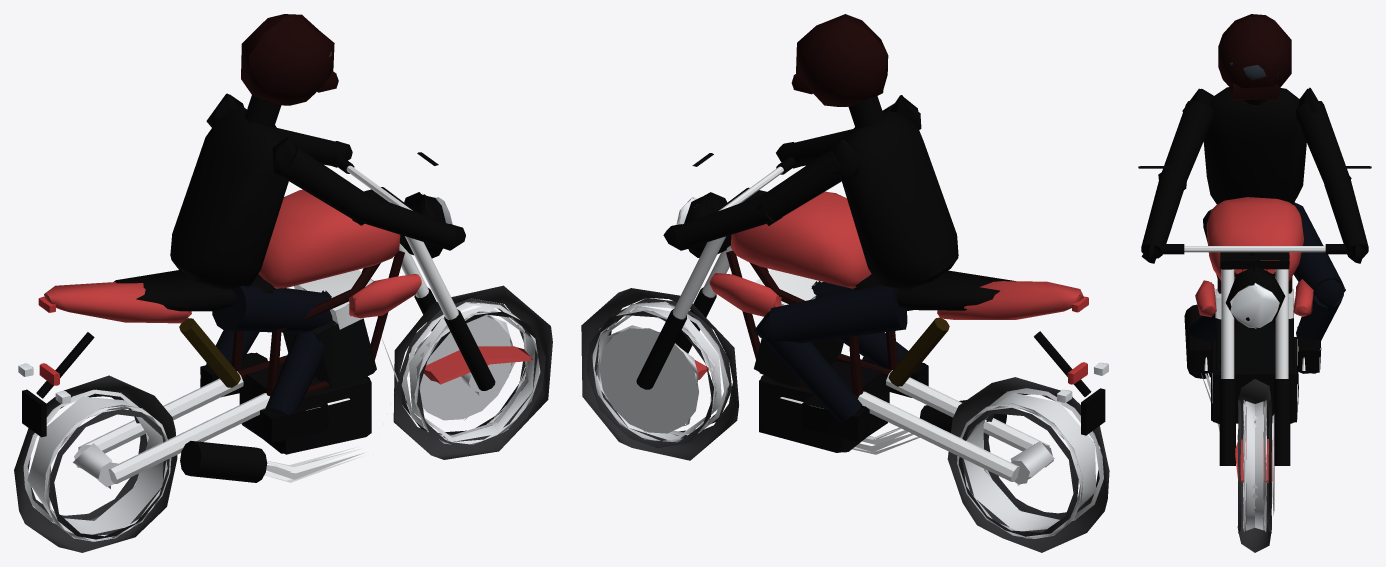
Rendered from m_road_far.glb.
3 renders of one model, left to right at view 1: azimuth 30°, elevation 25°; view 2: azimuth 150°, elevation 25°; view 3: azimuth 270°, elevation 25°, orthographic. The views are drawn at different scales.
Visible parts, largest first — view 1: WheelF, WheelR, Torso, Tank, Helmet, Crankcase, Thigh.001, Tail, Cylinders, Seat, Swingarm.001, Muffler (+22 smaller); view 2: WheelF, WheelR, Torso, Tank, Helmet, Thigh, Crankcase, Tail, Shin, Seat, Swingarm, UpperArm (+21 smaller); view 3: Torso, WheelF, Tank, Helmet, Cylinders, UpperArm.001, UpperArm, Forearm.001, Forearm, Crankcase, Thigh, HeadLight (+19 smaller).
Boxes of the visible parts, left/top/right/bottom form: WheelF: left=393, top=285, right=552, bottom=459; WheelR: left=14, top=375, right=177, bottom=552; Torso: left=170, top=110, right=288, bottom=289; Tank: left=258, top=189, right=400, bottom=288; Helmet: left=241, top=14, right=334, bottom=105; Crankcase: left=239, top=359, right=371, bottom=454; Thigh.001: left=212, top=283, right=336, bottom=332; Tail: left=44, top=282, right=191, bottom=323; Cylinders: left=283, top=288, right=376, bottom=388; Seat: left=114, top=270, right=275, bottom=311; Swingarm.001: left=108, top=393, right=269, bottom=483; Muffler: left=180, top=441, right=267, bottom=482; WheelF: left=581, top=288, right=738, bottom=460; WheelR: left=947, top=377, right=1109, bottom=552; Torso: left=842, top=111, right=958, bottom=289; Tank: left=730, top=191, right=871, bottom=288; Helmet: left=796, top=14, right=888, bottom=106; Thigh: left=770, top=285, right=907, bottom=343; Crankcase: left=759, top=359, right=889, bottom=452; Tail: left=937, top=281, right=1083, bottom=319; Shin: left=762, top=333, right=861, bottom=422; Seat: left=854, top=270, right=1015, bottom=310; Swingarm: left=858, top=391, right=1019, bottom=481; UpperArm: left=760, top=150, right=845, bottom=220; Torso: left=1203, top=87, right=1306, bottom=204; WheelF: left=1237, top=379, right=1274, bottom=552; Tank: left=1206, top=197, right=1303, bottom=280; Helmet: left=1218, top=14, right=1291, bottom=88; Cylinders: left=1216, top=304, right=1293, bottom=372; UpperArm.001: left=1161, top=100, right=1213, bottom=181; UpperArm: left=1295, top=101, right=1348, bottom=183; Forearm.001: left=1141, top=171, right=1185, bottom=258; Forearm: left=1324, top=171, right=1368, bottom=256; Crankcase: left=1211, top=337, right=1298, bottom=423; Thigh: left=1293, top=202, right=1344, bottom=295; HeadLight: left=1230, top=283, right=1279, bottom=328.
Size of the model in its own units: 2.07 by 1.81 by 0.8612.
